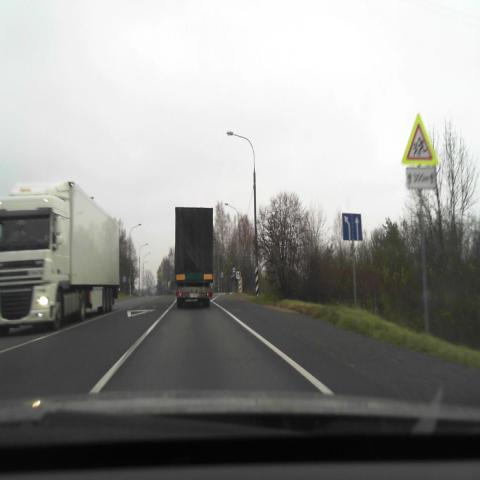8_2_1: (406, 168, 436, 188)
